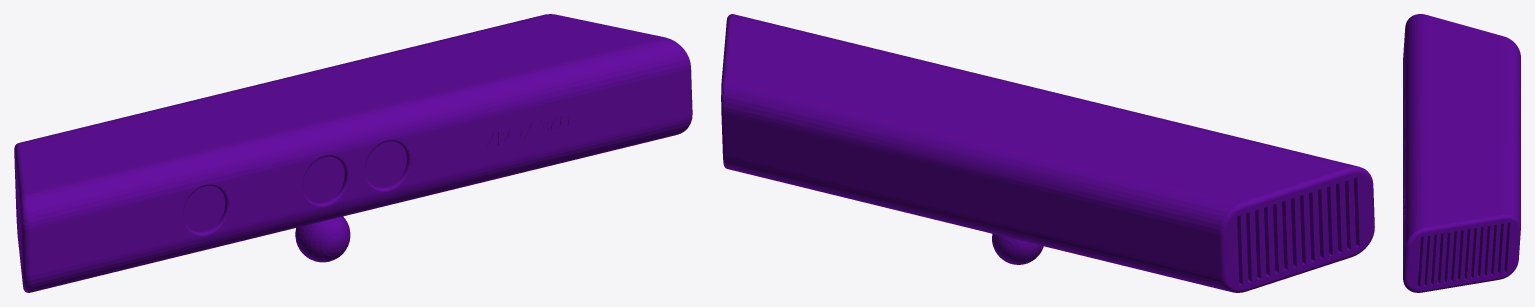
The model's file is xbox.dae.
3 views of the same model, side by side, from view 1: azimuth 30°, elevation 25°; view 2: azimuth 150°, elevation 25°; view 3: azimuth 270°, elevation 25° (orthographic). The views are drawn at different scales.
Visible parts, largest first — view 1: Kinect; view 2: Kinect; view 3: Kinect.
Boxes of the visible parts, x1,y1,x2,y2 form: Kinect: (14,14,692,292); Kinect: (721,14,1374,292); Kinect: (1403,14,1520,292).
Bounding box in the file's own units: 2.79 × 0.6251 × 0.6405.
